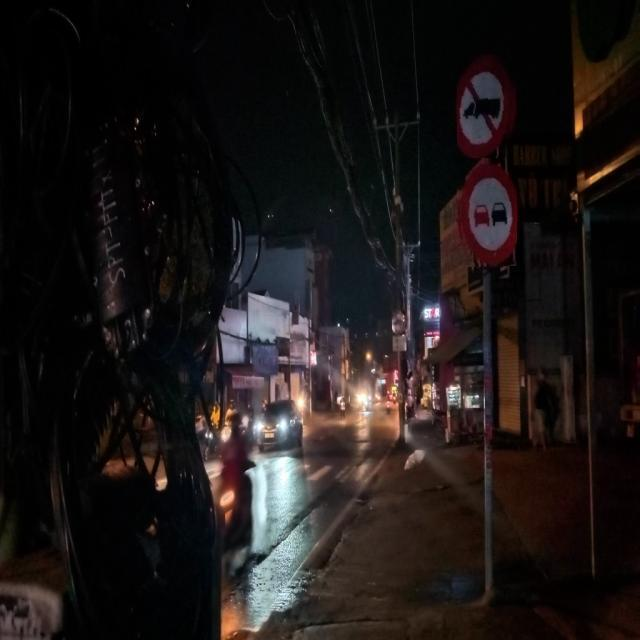106-cam-oto-tai: (392, 308, 405, 334)
125-cam-vuot: (457, 165, 517, 267)
